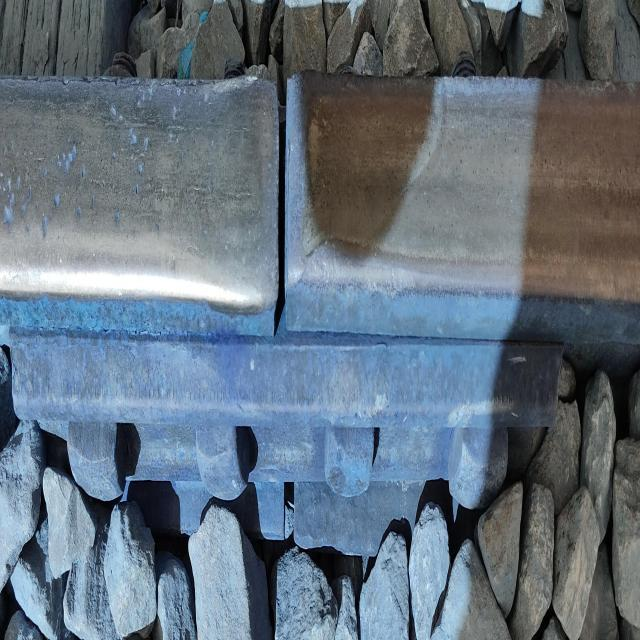Good Joint: (9, 328, 558, 573)
